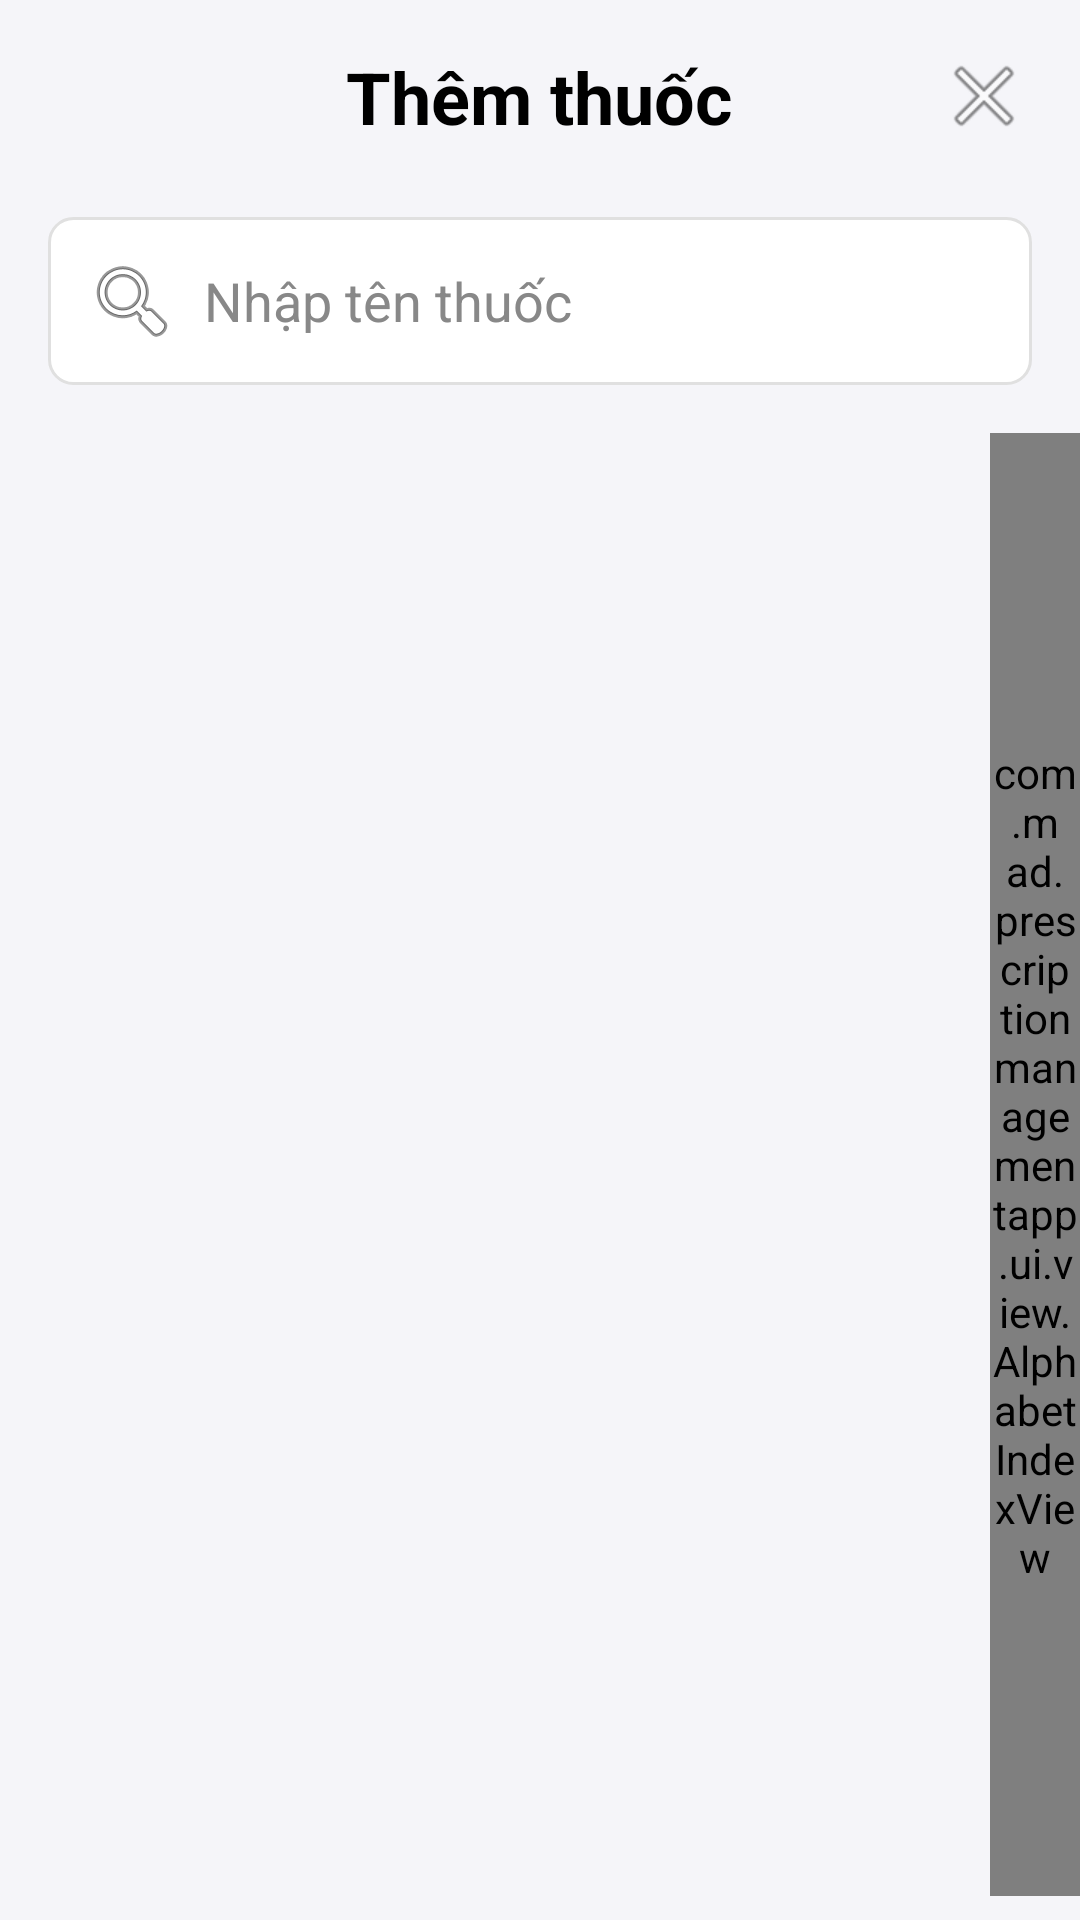

Where icons sit on this 1080w x 1920h app screen, as BBox(x1, y1, x2, y2):
Close: BBox(954, 66, 1014, 126)
